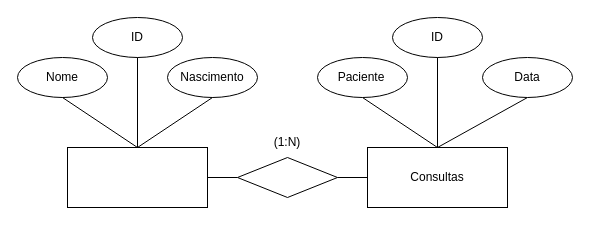
The diagram is 590 pixels wide and 225 high, and some of its shapes have lost their labels. The shapes that lost their labels are listed below. From the top down, each one's centre as x and y in pixels, then its label:
At (137,177): "Pacientes".
At (287,177): "Realiza".
